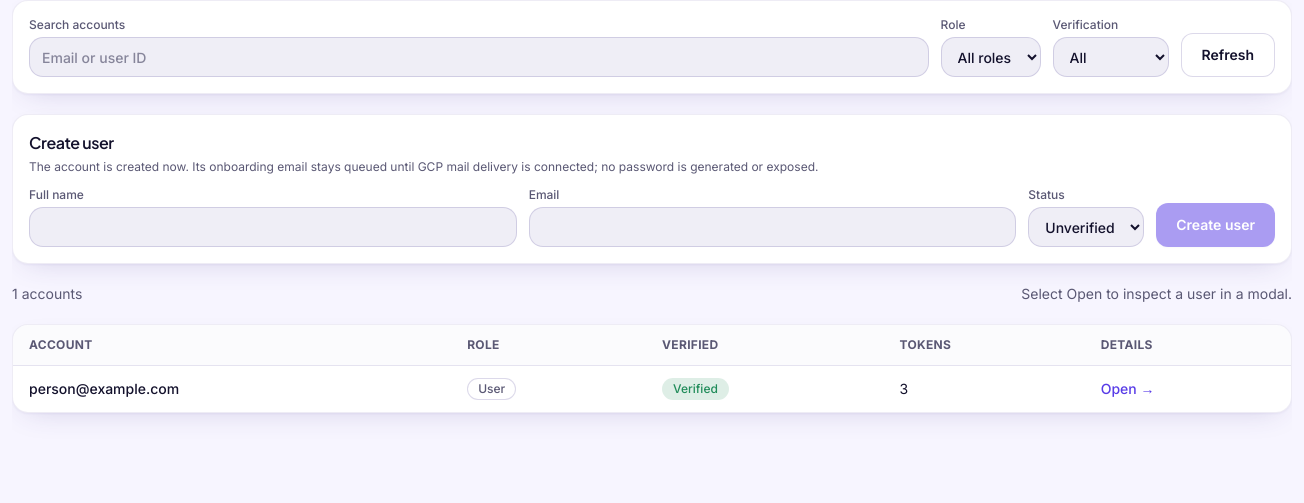
admin users page › creates an unverified user and reports that email delivery is pending
Expected: the text "person@example.com" is shown, [13,366,451,412]
Type "New Person" into the field labelled "Full name".
click(273, 227); type("New Person")  # box [29,207,517,247]
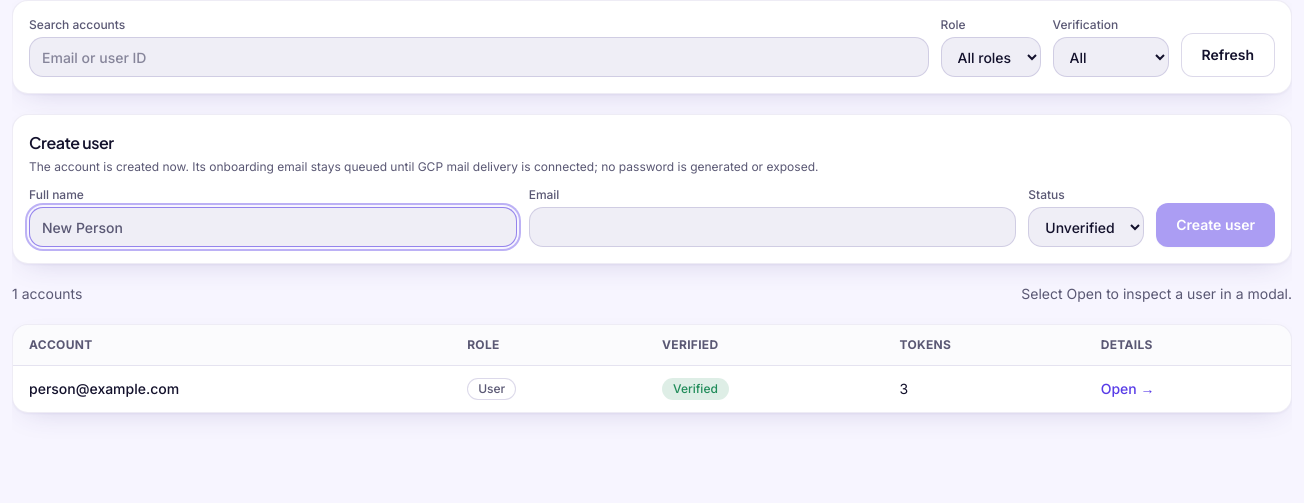
Type "new@example.com" into the field labelled "Email".
click(772, 227); type("new@example.com")  # box [529,207,1016,247]
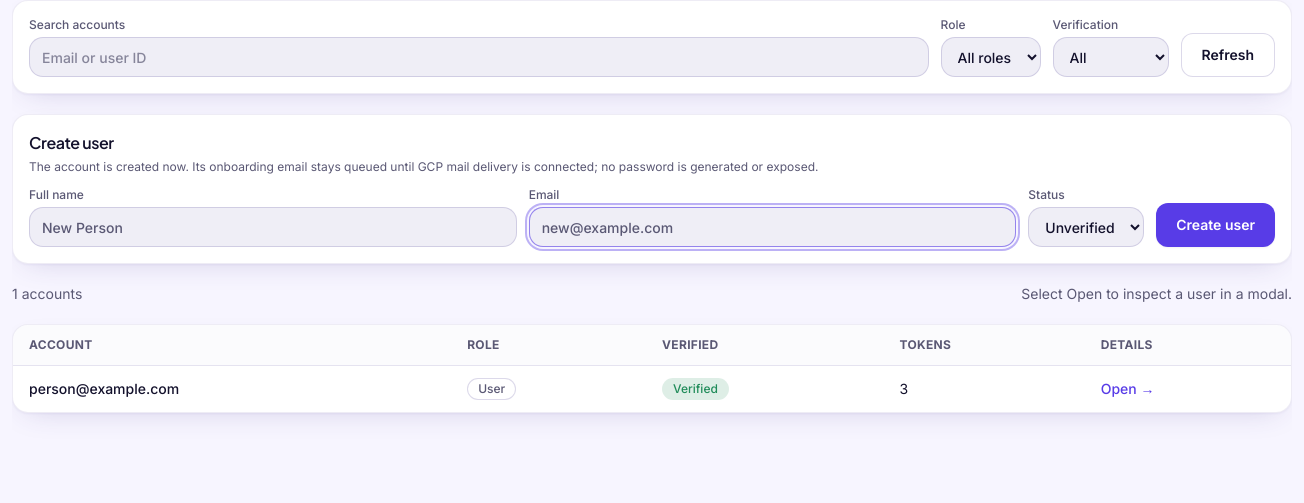
Click the button "Create user".
click(1216, 225)  # box [1156,203,1275,247]
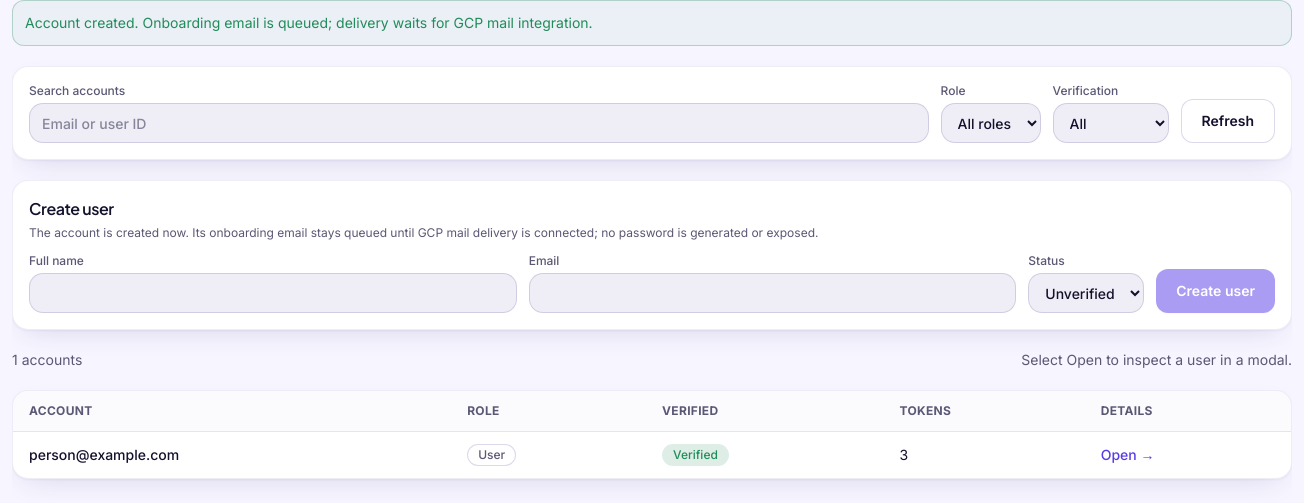
Now the message shows "delivery waits for GCP", box [25,14,593,31]
